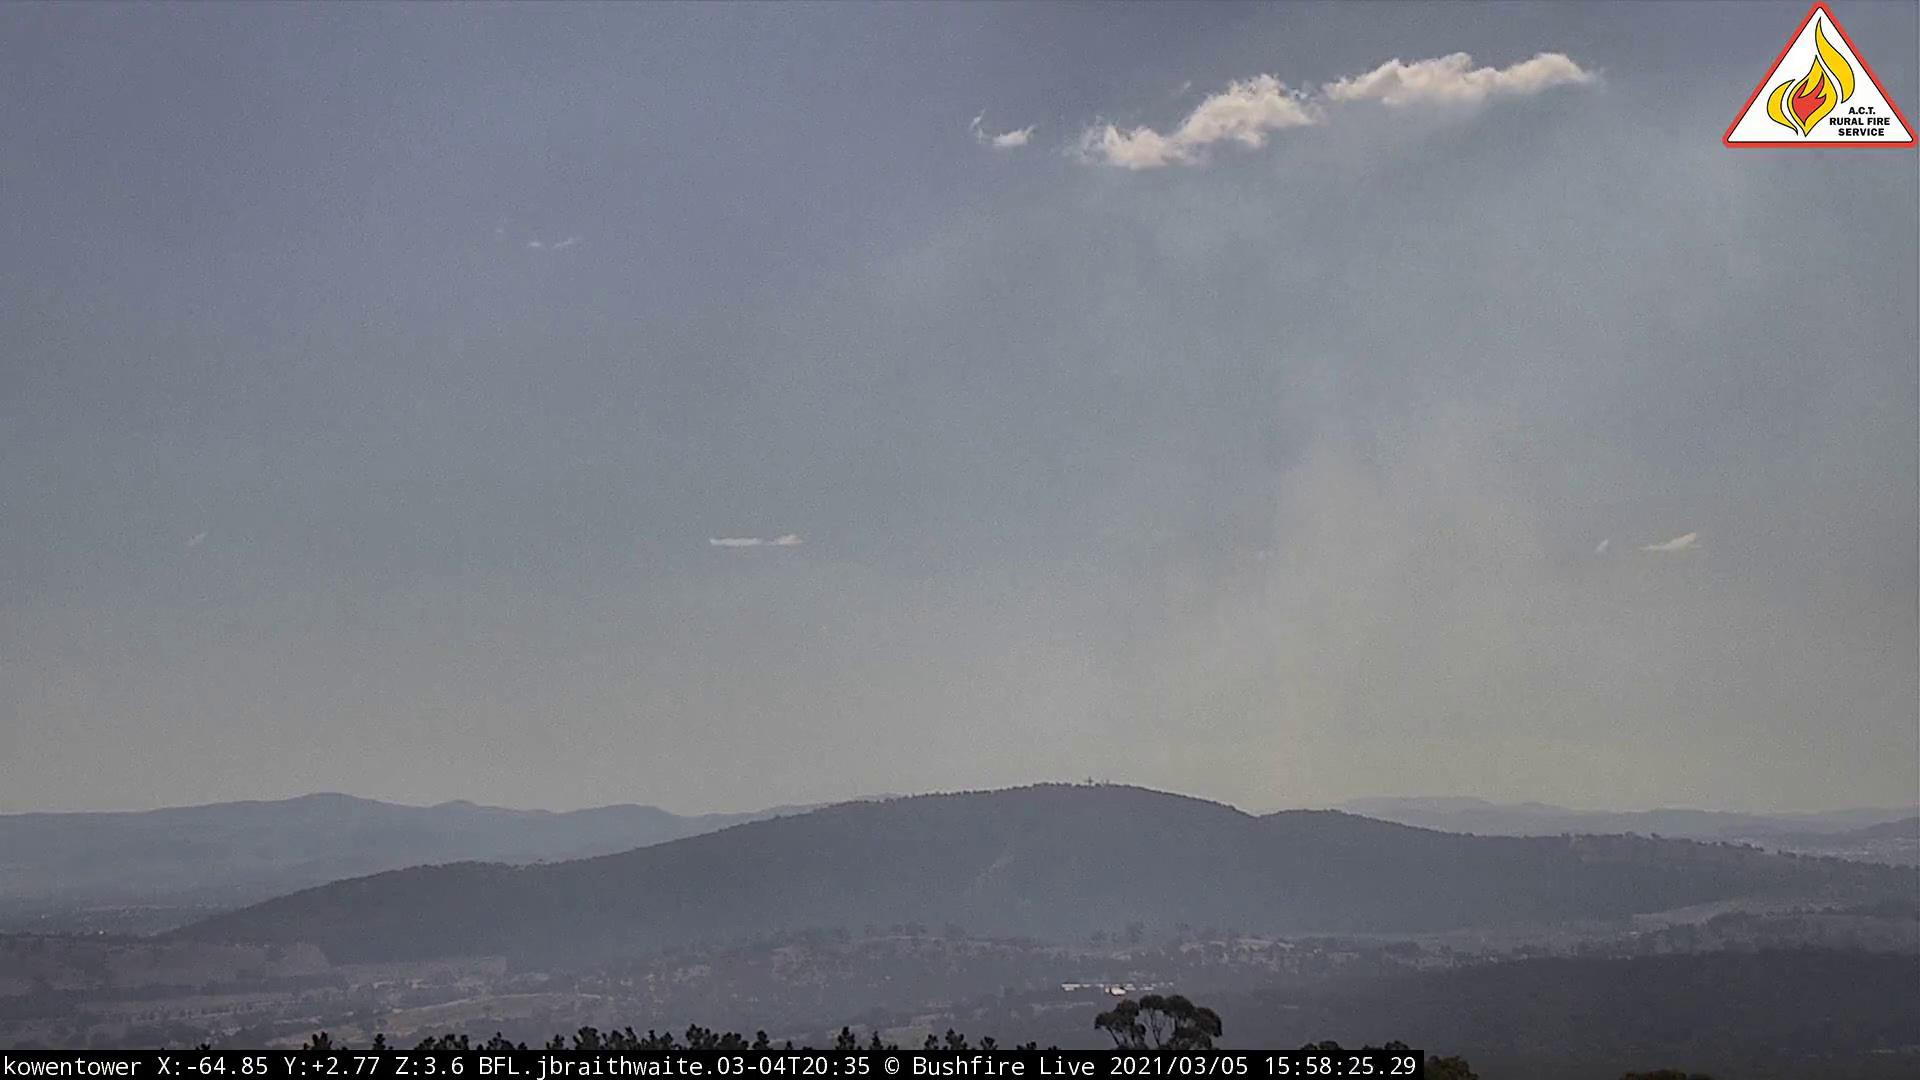instance_salient_object: (934, 229, 1813, 816)
